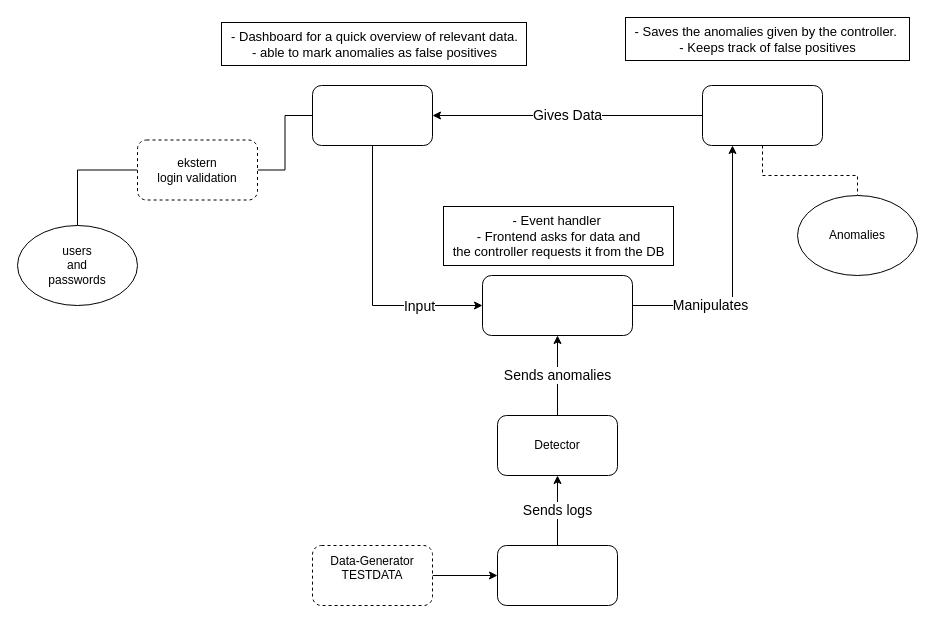
The diagram is 935 pixels wide and 629 high, and some of its shapes have lost their labels. The box of each missing label's shape, as (x1, y1, x2, y2) in pixels:
CONTROLLER: (482, 274, 632, 336)
Database: (702, 84, 822, 146)
Frontend: (312, 84, 432, 146)
rabbitmq server: (496, 544, 618, 606)
